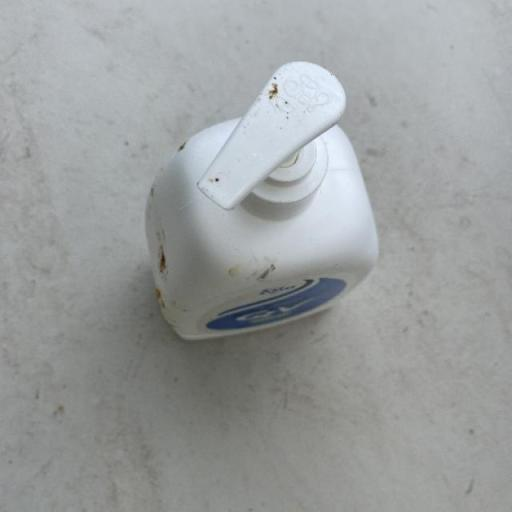plastic: (142, 60, 380, 342)
